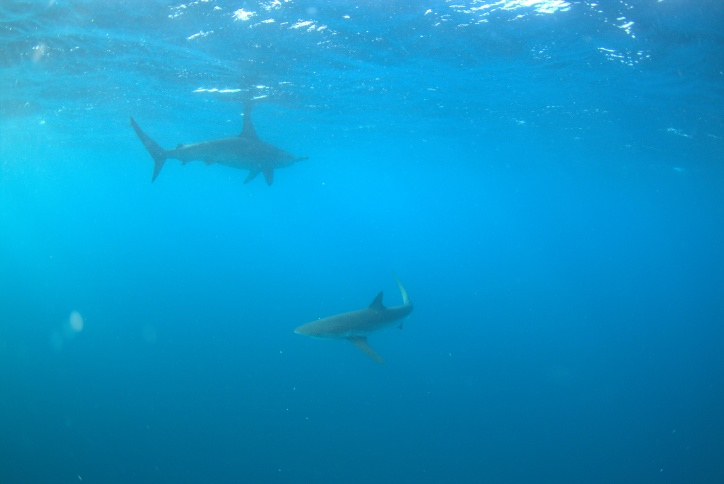Sedoso: (273, 263, 430, 367)
